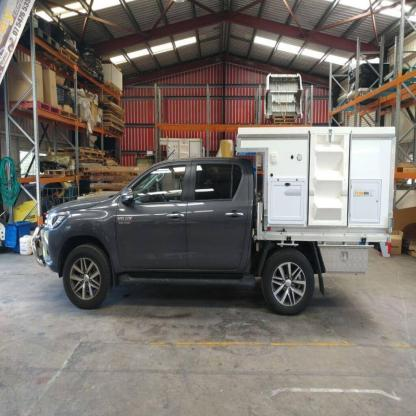light_vehicle: (28, 113, 401, 318)
